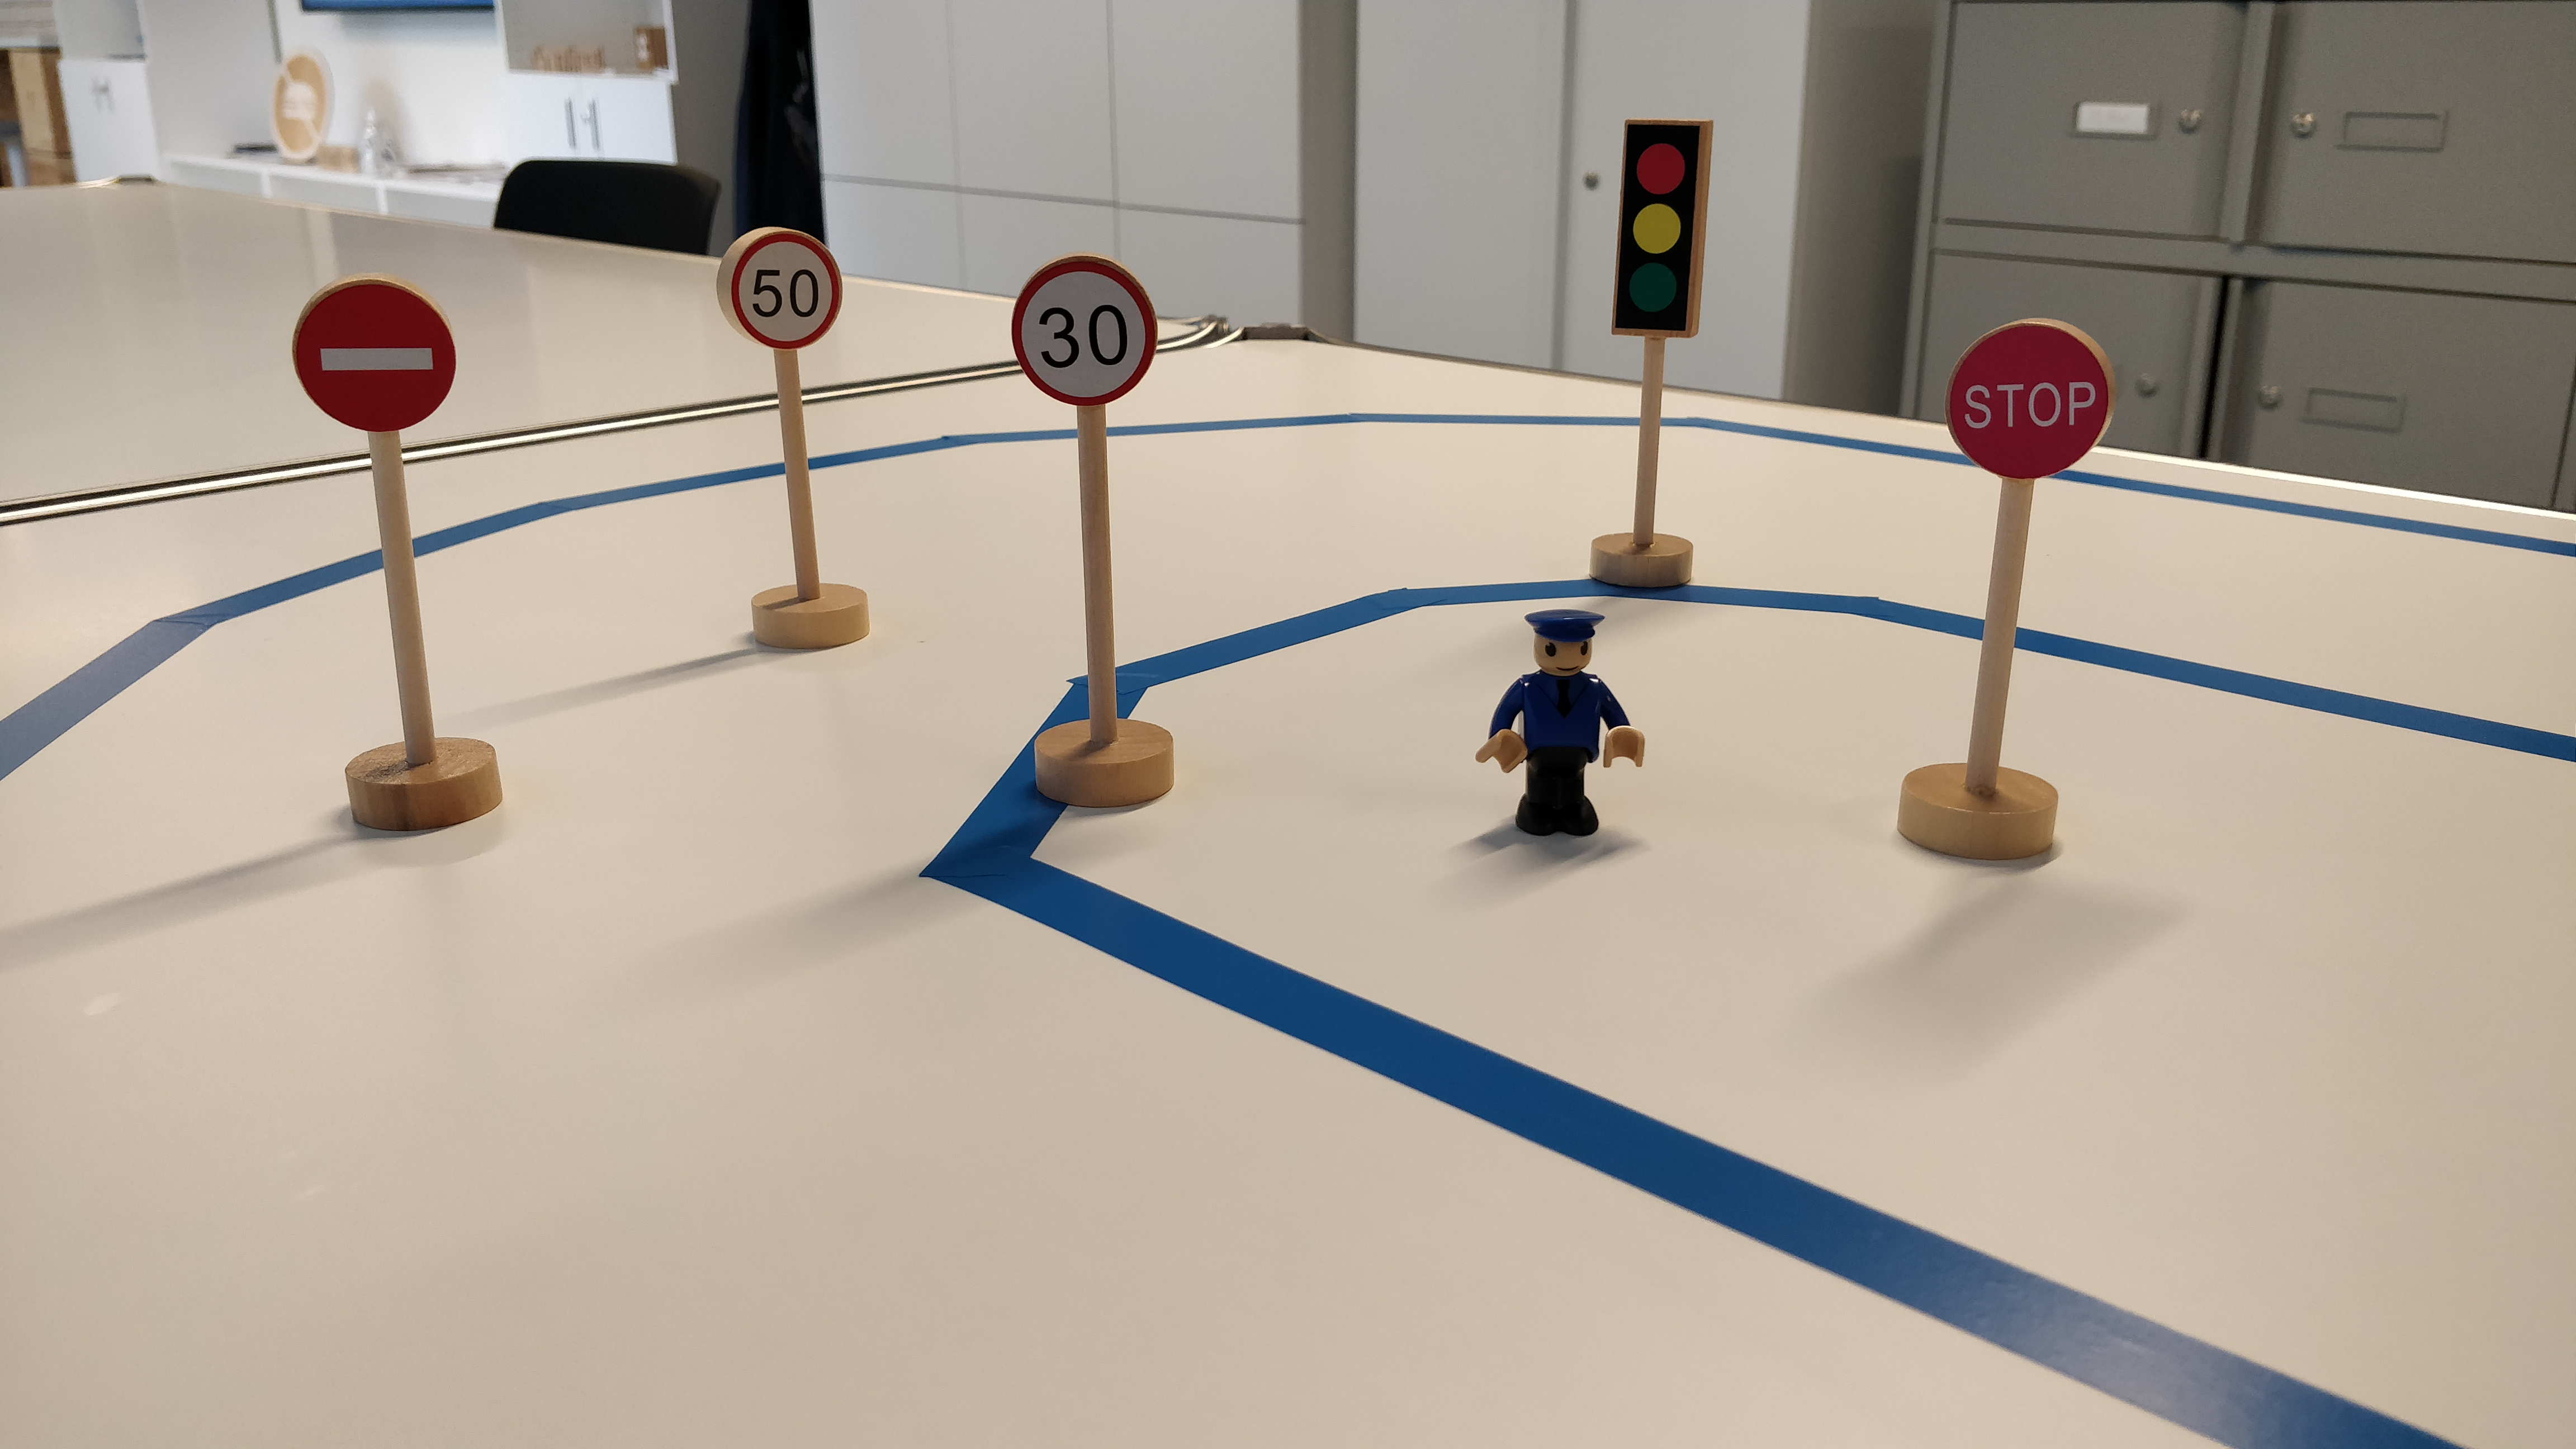Person: (1475, 607, 1652, 853)
Prohibition Sign: (288, 272, 462, 432)
Speed Limit 30: (1007, 250, 1166, 414)
Speed Limit 50: (712, 224, 847, 353)
Stop Sign: (1941, 314, 2118, 480)
Traffic Light: (1607, 112, 1718, 340)
